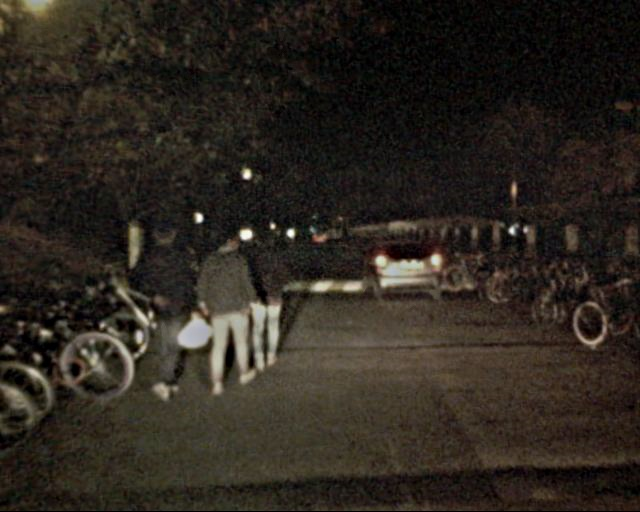person: (123, 217, 198, 399), (191, 223, 259, 395), (232, 224, 293, 373)
